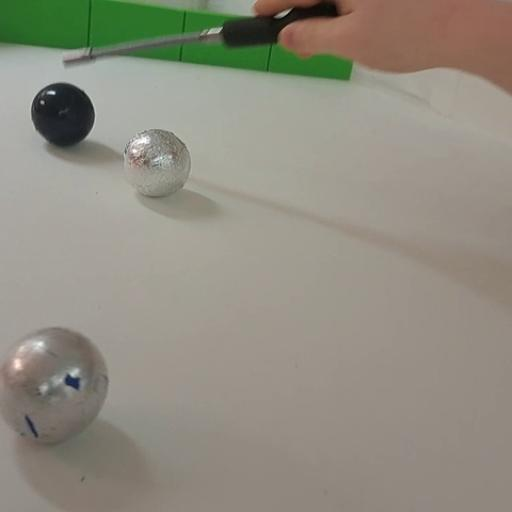alive: (0, 324, 112, 446), (122, 128, 192, 196)
dead: (29, 80, 97, 148)
